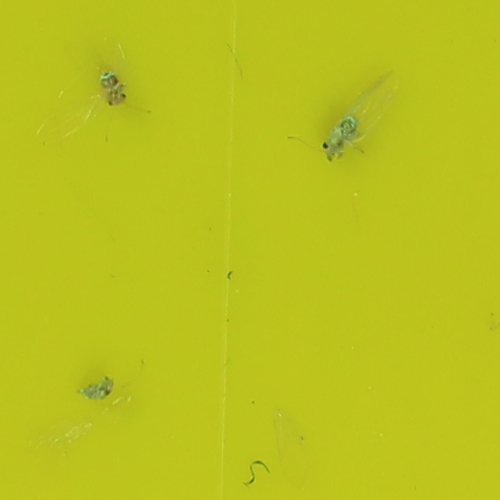Glycaspis: (322, 113, 359, 163), (98, 69, 128, 107), (77, 374, 115, 401)
